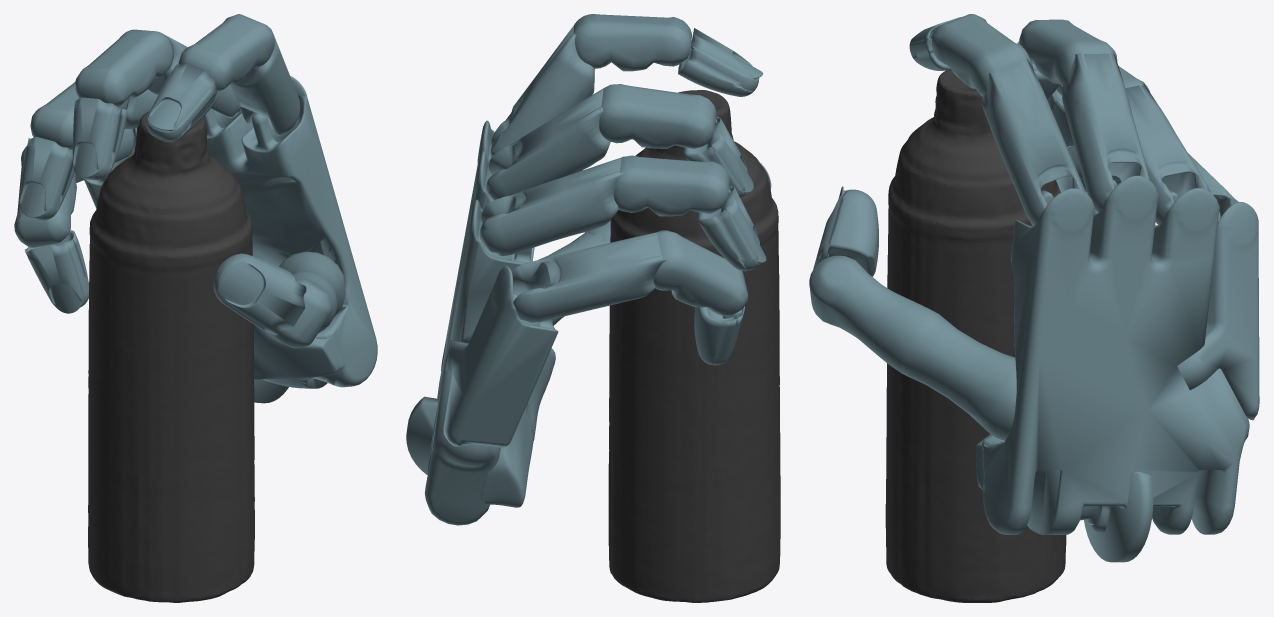
3 renders of one model, left to right at view 1: azimuth 30°, elevation 25°; view 2: azimuth 150°, elevation 25°; view 3: azimuth 270°, elevation 25°, orthographic. The views are drawn at different scales.
Visible parts, largest first — view 1: world; view 2: world; view 3: world.
Boxes of the visible parts, x1,y1,x2,y2 form: world: (14,14,377,602); world: (406,14,780,602); world: (809,14,1259,602).
Bounding box in the file's own units: 0.1299 × 0.1961 × 0.1404.
Materials: 1 (1 with a texture image).
